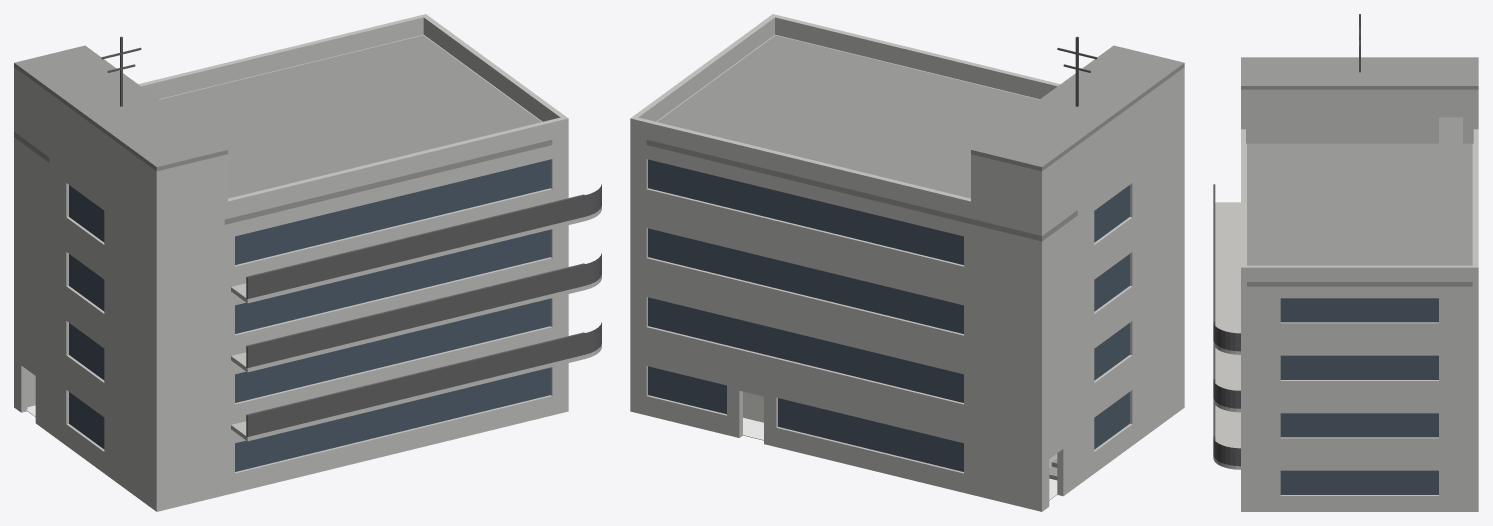
The model's file is apartment.zfix-v13.lod0.glb.
3 views of the same model, side by side, from view 1: azimuth 30°, elevation 25°; view 2: azimuth 150°, elevation 25°; view 3: azimuth 270°, elevation 25° (orthographic). The views are drawn at different scales.
Visible parts, largest first — view 1: apartment; view 2: apartment; view 3: apartment.
Part boxes in pixels (box(x1,y1,x2,y2)): apartment: box(14, 14, 601, 511); apartment: box(630, 14, 1184, 511); apartment: box(1213, 14, 1478, 511).
Bounding box in the file's own units: 21.4 × 19.22 × 13.4.
